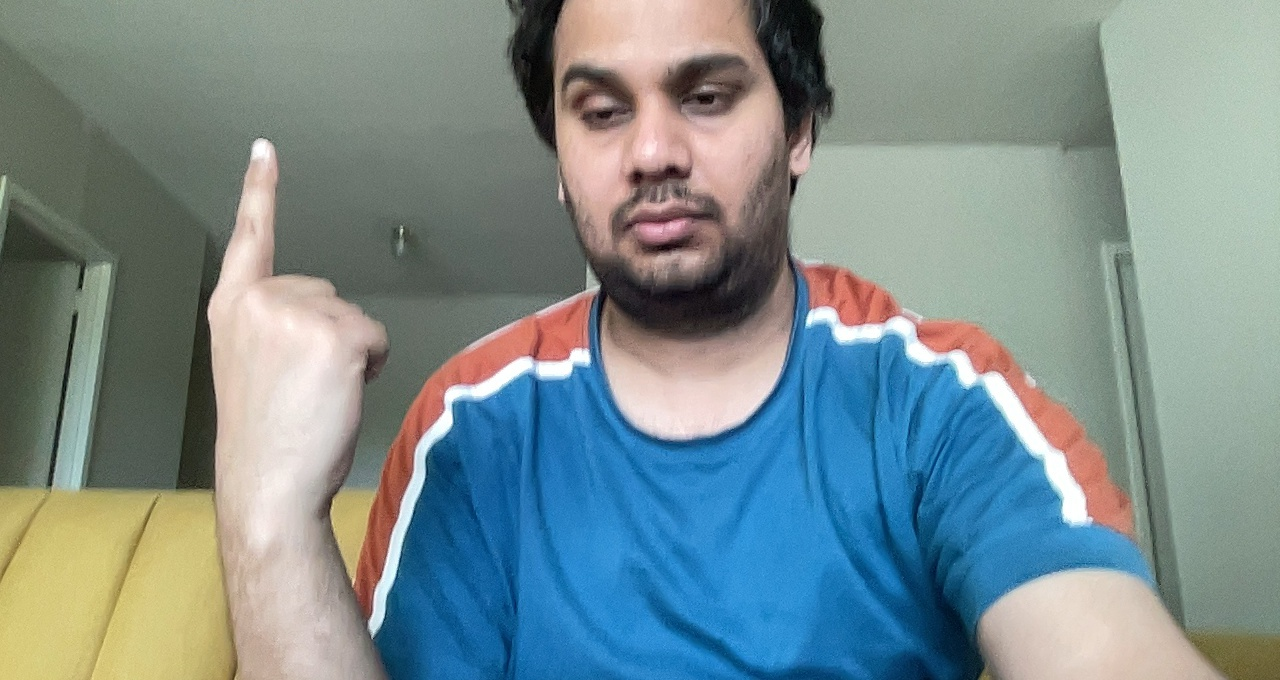fingerup: (195, 131, 399, 504)
